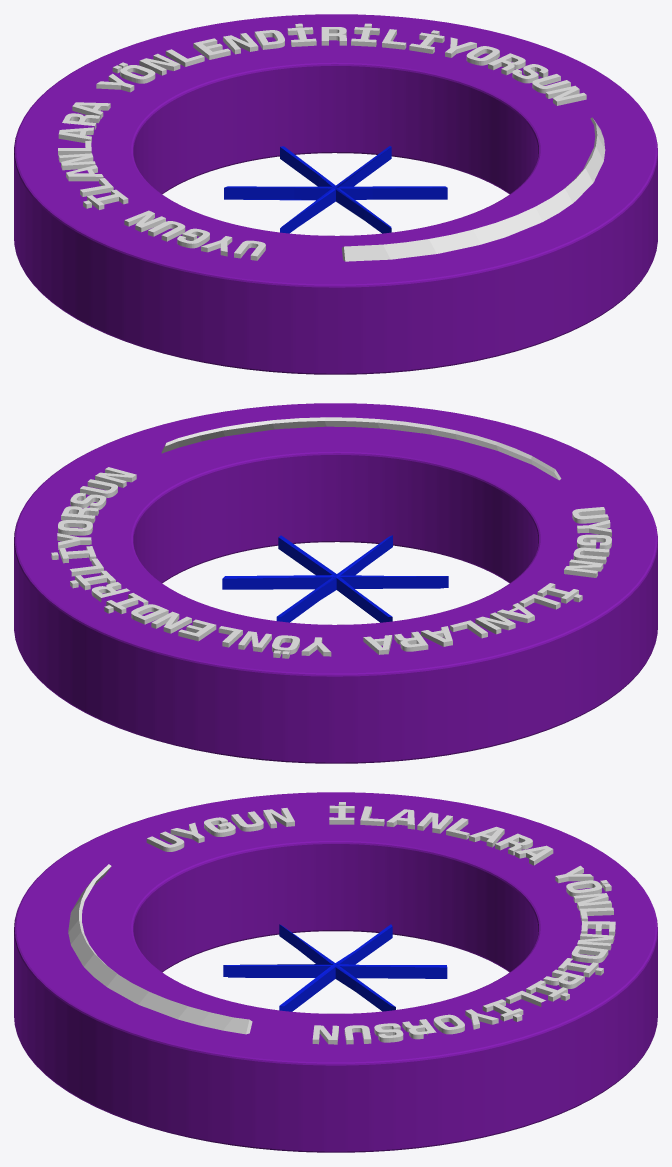
File: badge-yonlendirme-obj.gltf
The picture shows the model from 3 angles, top to bottom: view 1: azimuth 30°, elevation 25°; view 2: azimuth 150°, elevation 25°; view 3: azimuth 270°, elevation 25°; orthographic projection.
Parts seen in each view (by area): view 1: Circle, Curve.030, Curve, Curve.002; view 2: Circle, Curve.030, Curve, Curve.002; view 3: Circle, Curve.030, Curve, Curve.002.
Boxes of the visible parts, x1,y1,x2,y2 form: Circle: (14,14,657,374); Curve.030: (58,23,586,260); Curve: (224,146,447,233); Curve.002: (342,117,605,261); Circle: (14,403,657,763); Curve.030: (51,467,611,658); Curve: (222,535,448,622); Curve.002: (161,417,561,480); Circle: (14,792,657,1152); Curve.030: (146,802,615,1044); Curve: (223,924,447,1011); Curve.002: (68,864,252,1034).
Bounding box in the file's own units: 0.5951 × 0.1041 × 0.5954.
